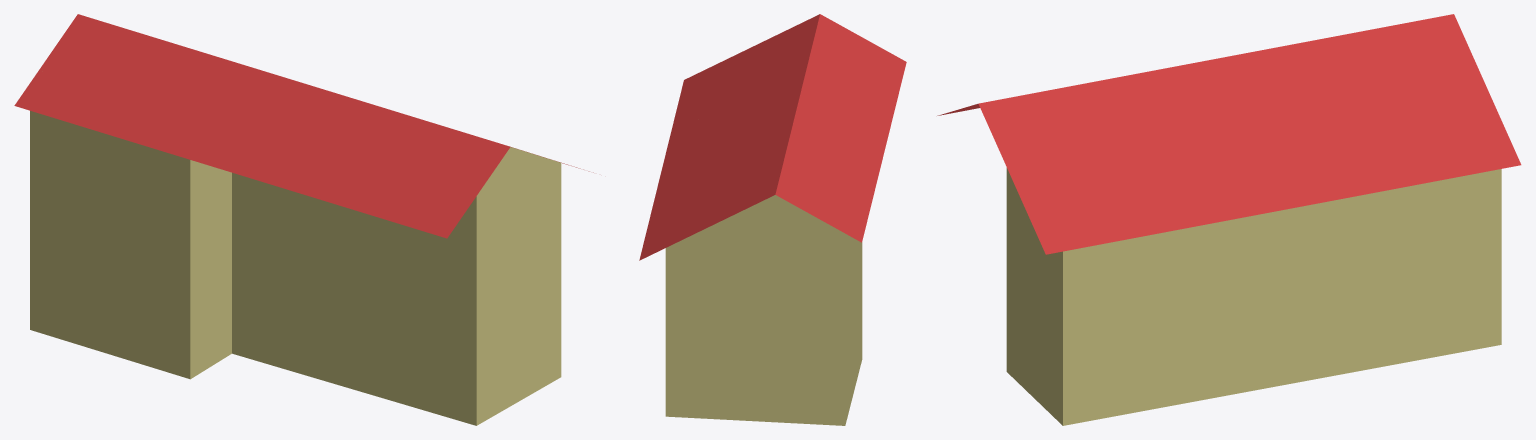
The picture shows the model from 3 angles, left to right: view 1: azimuth 30°, elevation 25°; view 2: azimuth 150°, elevation 25°; view 3: azimuth 270°, elevation 25°; orthographic projection. The views are drawn at different scales.
Bounding box in the file's own units: 15.03 × 19.16 × 10.02.
